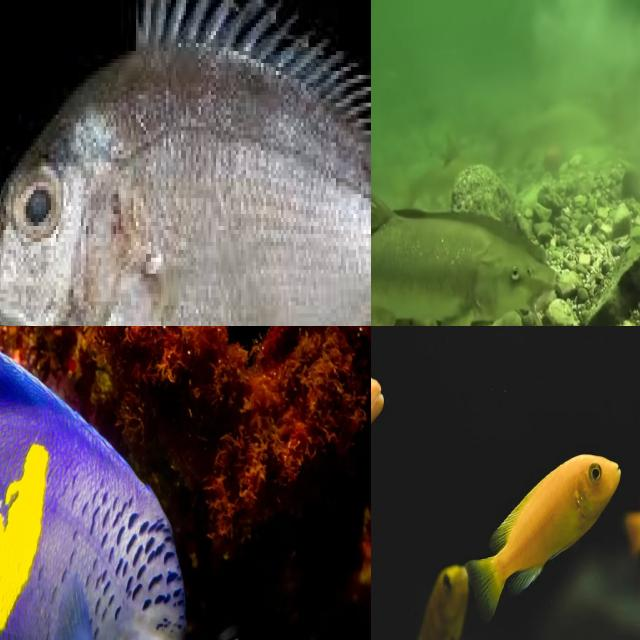fish: (0, 0, 371, 326), (0, 326, 316, 640), (371, 435, 640, 640), (492, 99, 640, 326)
